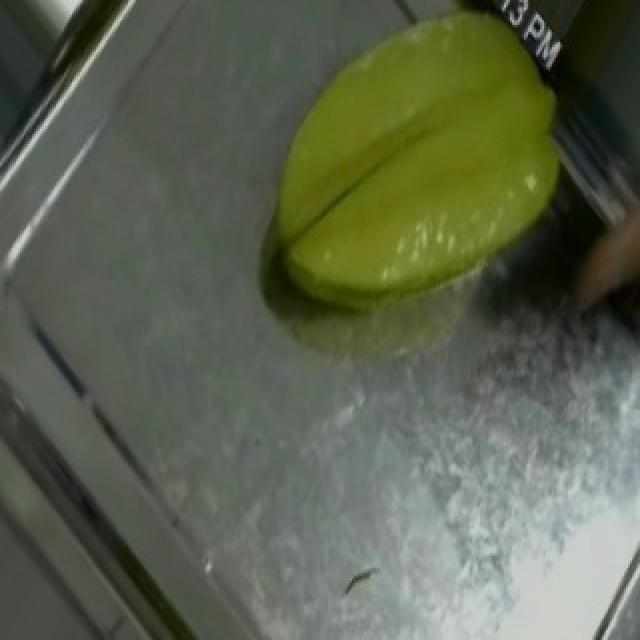fruit: (236, 0, 610, 357)
